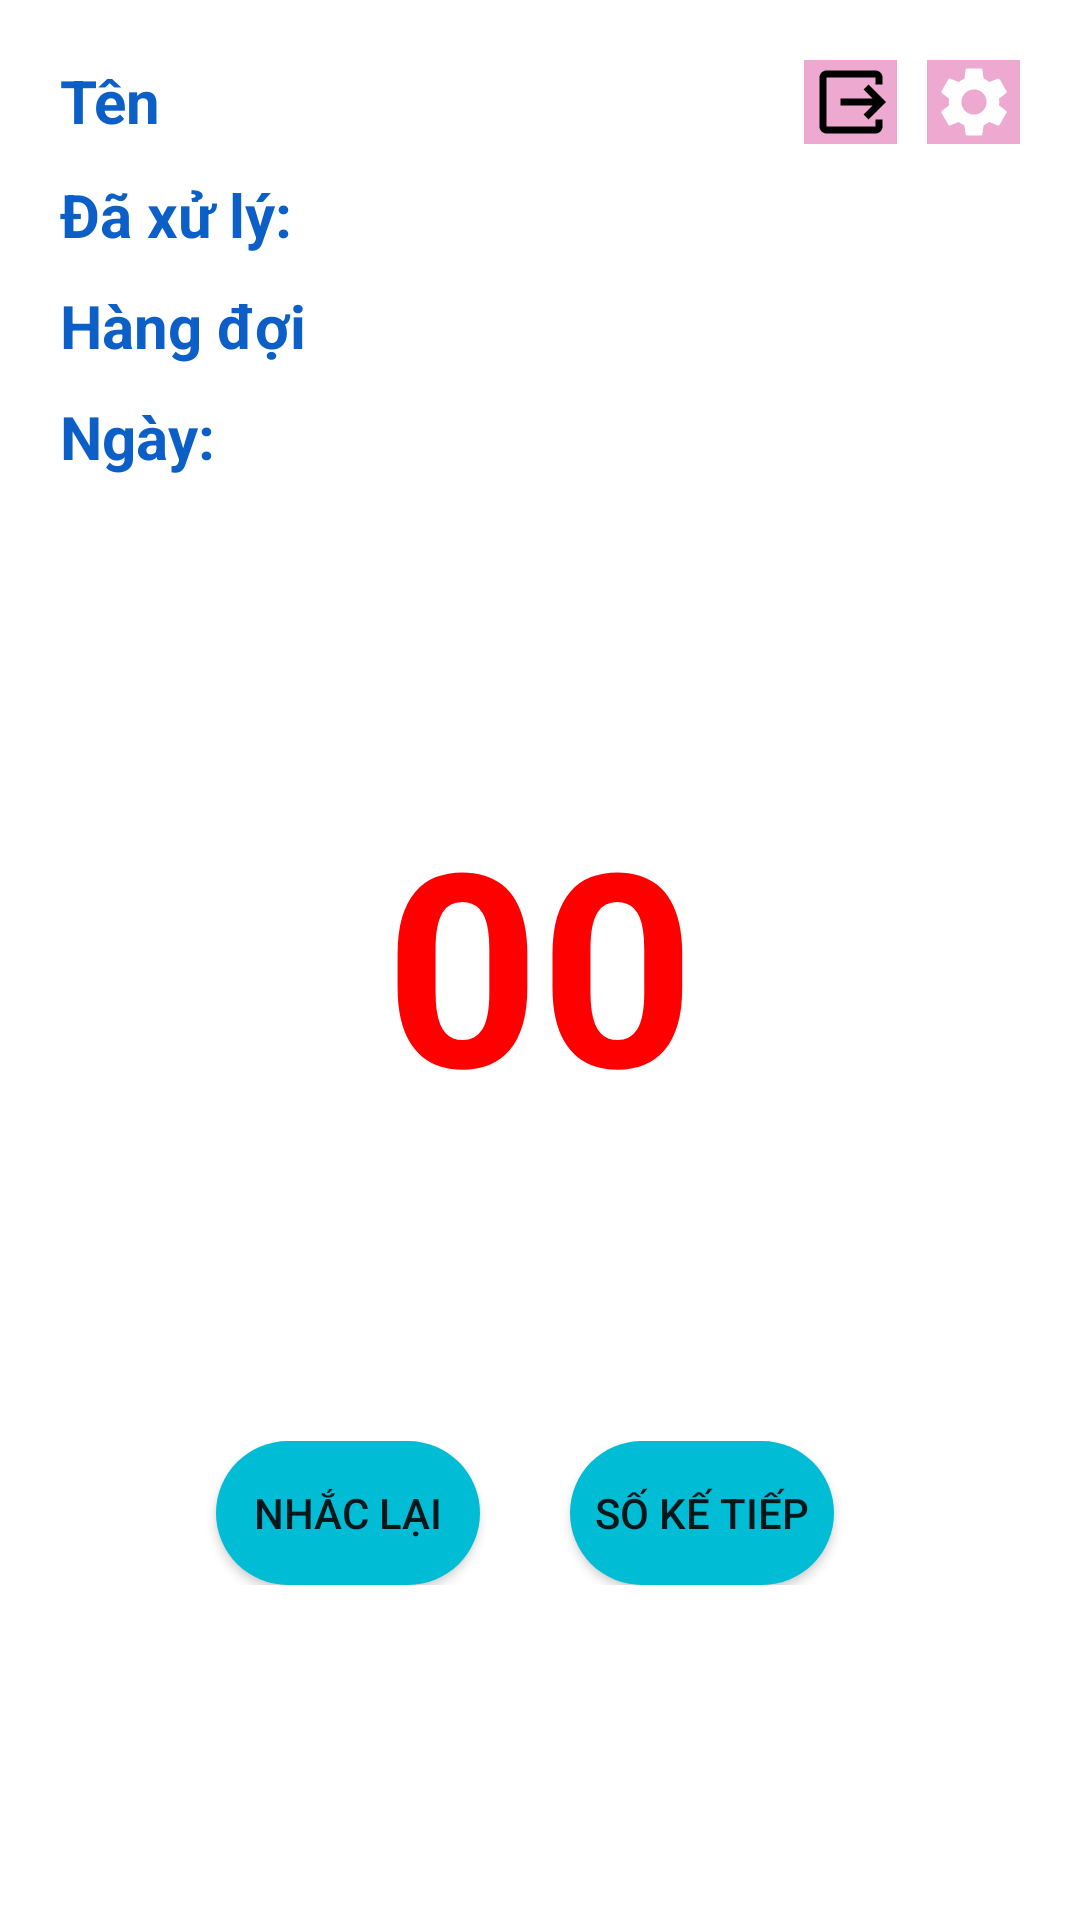

Point at icon controls on the screen. Image size 1080*1920, points as (x,y).
output: (850,102)
settings: (973,102)
